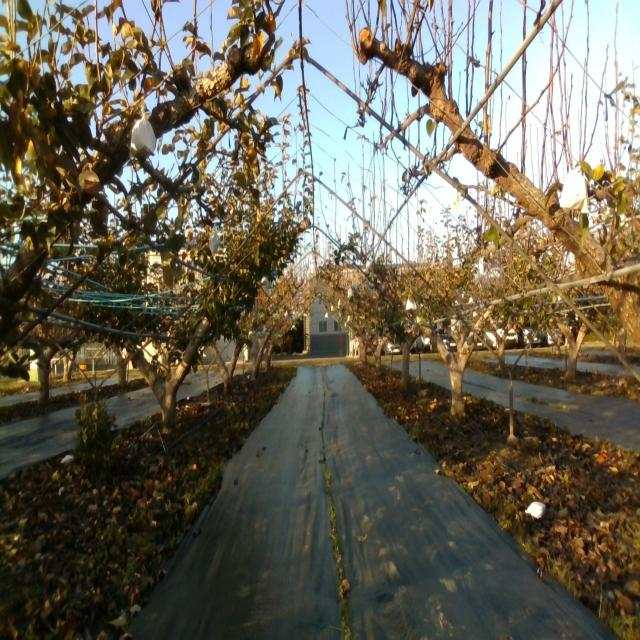pearbags: (128, 113, 156, 165), (560, 166, 590, 214), (209, 223, 219, 254)
